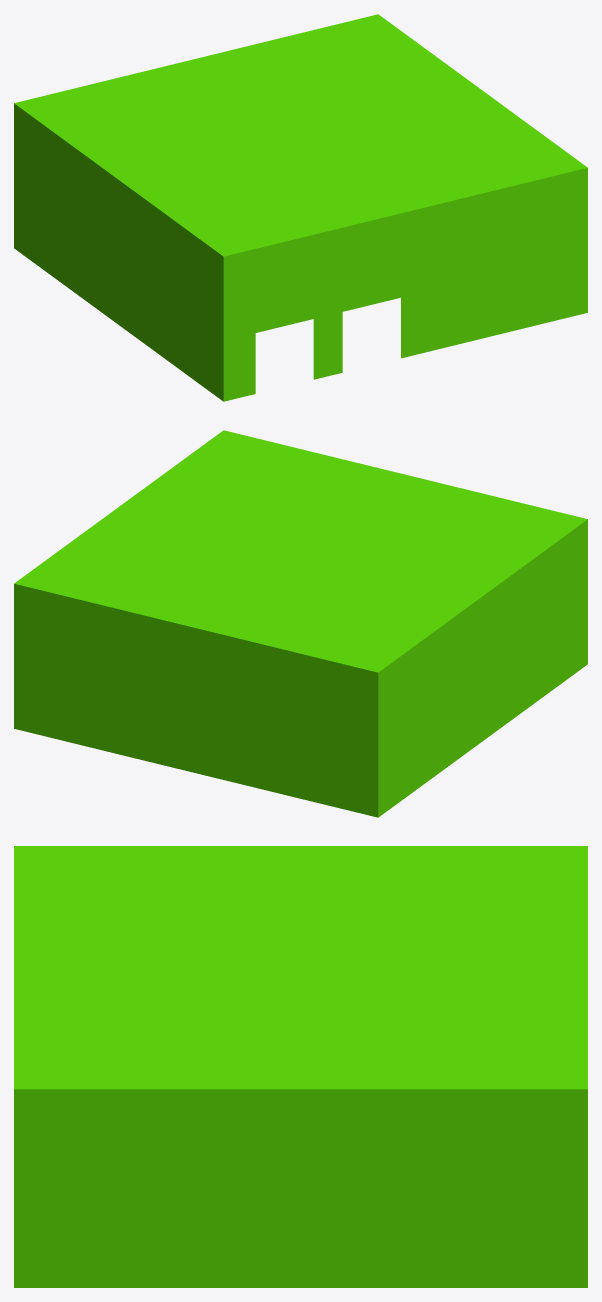
Rendered from Garage_cup.fbx.
3 views of the same model, one above another, from view 1: azimuth 30°, elevation 25°; view 2: azimuth 150°, elevation 25°; view 3: azimuth 270°, elevation 25° (orthographic). The views are drawn at different scales.
Parts seen in each view (by area): view 1: Garage_cup; view 2: Garage_cup; view 3: Garage_cup.
Boxes of the visible parts, x1=… form: Garage_cup: x1=14, y1=14, x2=587, y2=401; Garage_cup: x1=14, y1=430, x2=587, y2=817; Garage_cup: x1=14, y1=846, x2=587, y2=1287.
Bounding box in the file's own units: 20.06 × 7.64 × 20.
